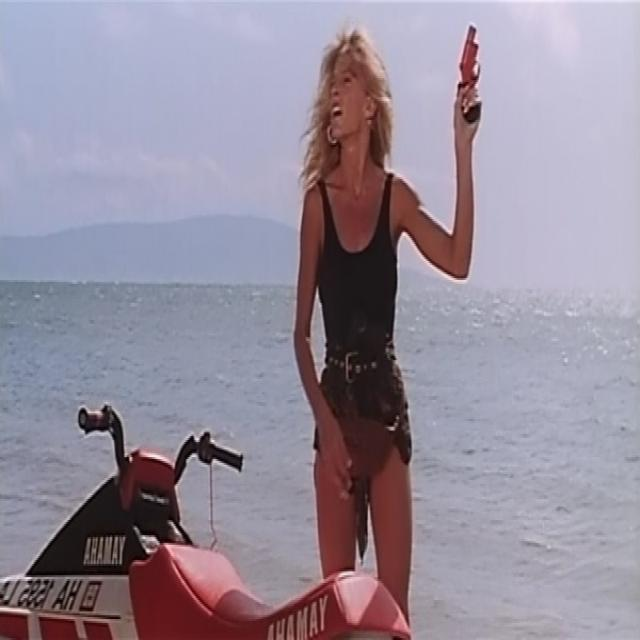weapons: (448, 6, 496, 156)
